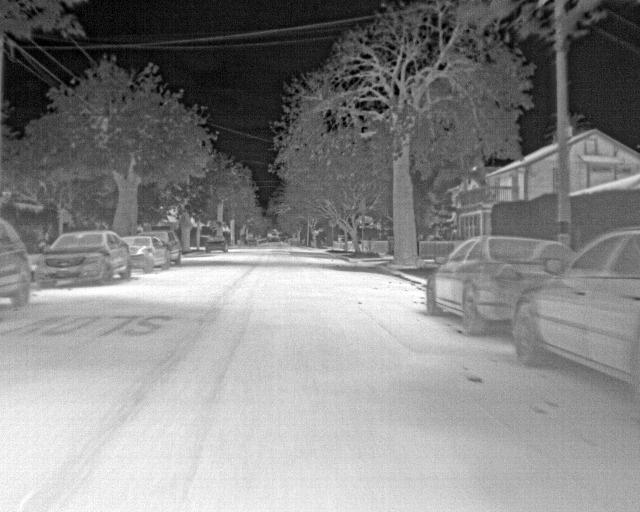car: (513, 225, 639, 393), (426, 232, 578, 336), (33, 228, 129, 287), (0, 217, 33, 309), (119, 233, 167, 271), (146, 229, 180, 264), (205, 235, 228, 253), (244, 235, 257, 248)
